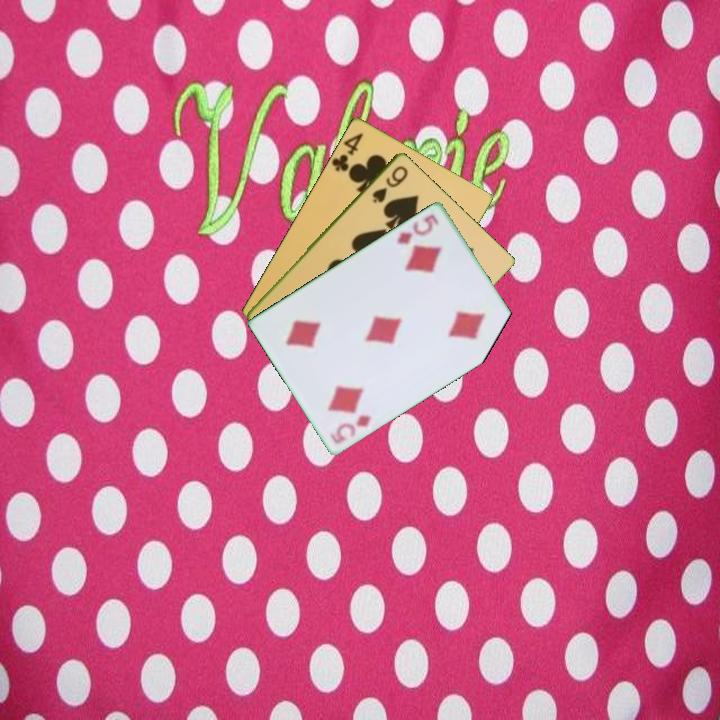4c: (328, 129, 366, 174)
5d: (393, 210, 442, 248), (327, 411, 374, 446)
9s: (368, 162, 411, 205)
